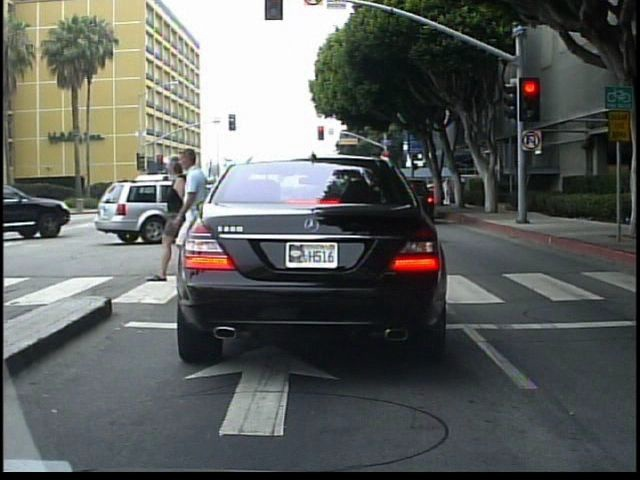person: (181, 148, 218, 285), (157, 147, 188, 287), (443, 174, 455, 208)
